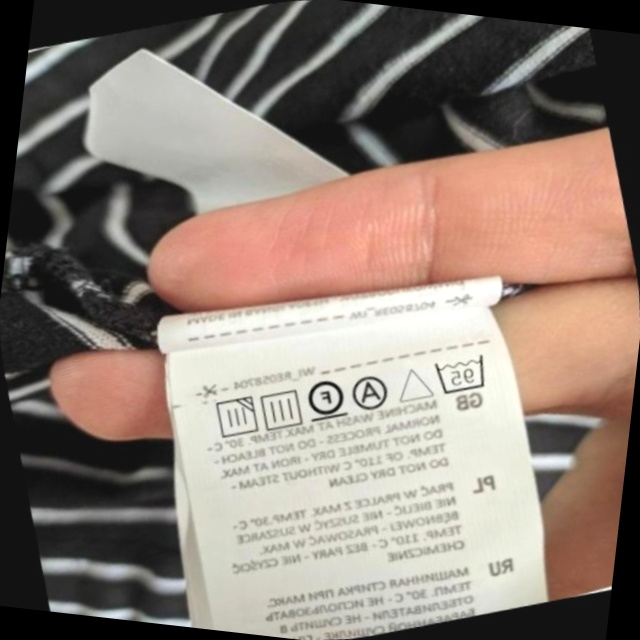95C: (425, 344, 496, 404)
bleach: (389, 356, 439, 411)
drip_dry: (251, 380, 311, 438)
drip_dry_in_shade: (204, 387, 265, 449)
dry_clean: (345, 366, 397, 418)
dry_clean_petrol_only: (297, 368, 354, 429)
